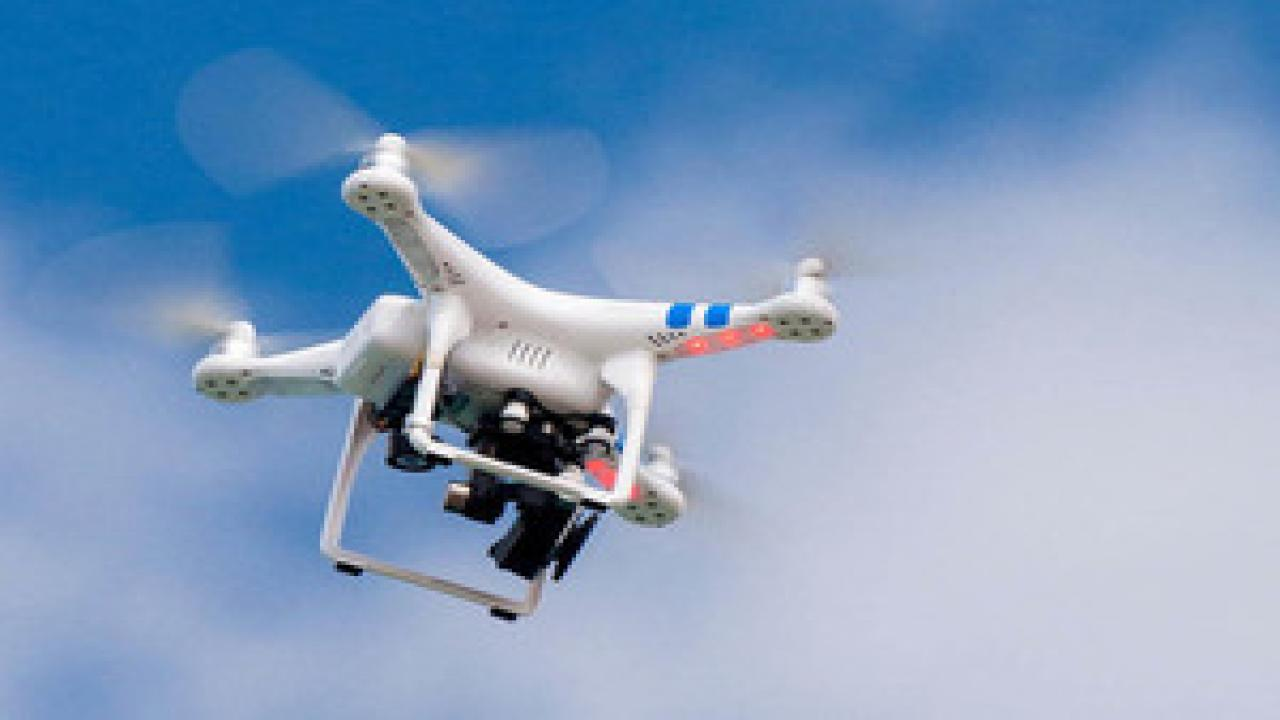Drone: (7, 37, 988, 629)
